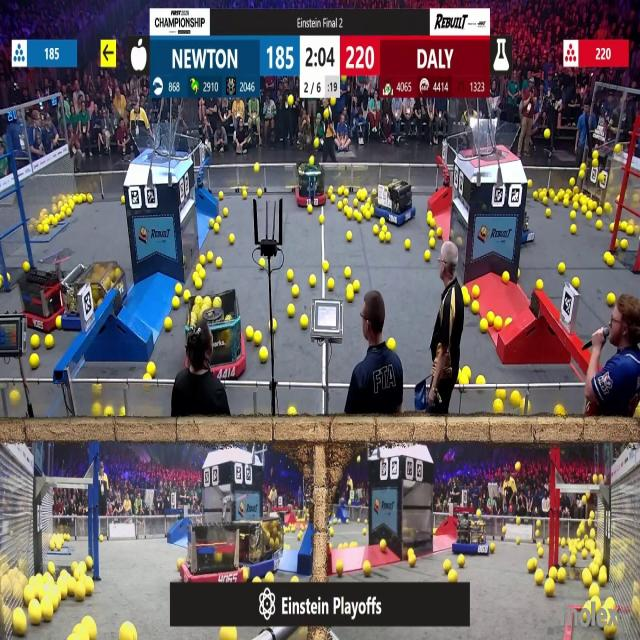ball_airborne: (616, 144, 623, 153), (314, 138, 320, 148), (543, 130, 549, 140), (516, 462, 522, 471), (324, 110, 329, 120), (288, 96, 293, 106), (310, 158, 316, 166), (578, 170, 584, 178), (593, 160, 598, 169), (330, 98, 335, 107), (593, 150, 598, 158), (582, 495, 586, 504), (580, 161, 584, 169), (357, 454, 361, 461)
ball_ground: (14, 616, 26, 637), (122, 624, 137, 640), (30, 608, 42, 627), (42, 607, 53, 624), (544, 581, 554, 598), (604, 625, 615, 640), (75, 586, 85, 602), (30, 353, 40, 368), (146, 361, 156, 376), (598, 569, 607, 585), (534, 570, 544, 584), (409, 551, 417, 567), (584, 570, 592, 586), (494, 399, 503, 413), (512, 392, 521, 406), (591, 585, 600, 598), (259, 348, 267, 362), (528, 558, 536, 572), (87, 582, 95, 596), (449, 569, 458, 581), (363, 561, 370, 576), (606, 292, 614, 305), (558, 569, 566, 582), (32, 337, 40, 350), (253, 333, 261, 346), (494, 317, 502, 330), (604, 599, 613, 610), (302, 315, 309, 329), (337, 560, 344, 574), (91, 626, 98, 640), (458, 555, 466, 567), (481, 320, 489, 332), (347, 289, 355, 301), (388, 339, 396, 351), (94, 405, 102, 417), (242, 568, 250, 580), (45, 337, 52, 350), (287, 305, 294, 318), (246, 326, 253, 339), (606, 253, 613, 266), (287, 408, 296, 418), (459, 375, 468, 385), (267, 571, 275, 582), (10, 391, 18, 402), (556, 407, 564, 418), (550, 568, 558, 579), (471, 302, 478, 314), (165, 318, 172, 330), (173, 296, 180, 308), (88, 557, 95, 569), (427, 214, 434, 226), (47, 562, 54, 574), (105, 408, 113, 418), (496, 389, 504, 399), (462, 366, 470, 376), (194, 279, 201, 290), (502, 273, 509, 284), (345, 268, 352, 279), (353, 281, 360, 292), (572, 278, 579, 289), (359, 189, 366, 200), (327, 279, 333, 291), (57, 317, 63, 329), (445, 560, 451, 572), (308, 276, 314, 288), (292, 285, 298, 297), (478, 376, 486, 385), (183, 290, 189, 302), (596, 599, 602, 611), (175, 284, 182, 294), (621, 240, 628, 250), (403, 240, 410, 250), (207, 252, 214, 262), (227, 234, 234, 244), (346, 208, 353, 218), (571, 200, 578, 210), (559, 264, 565, 275), (287, 271, 293, 282), (472, 286, 478, 297), (381, 539, 387, 550), (216, 257, 222, 268), (424, 250, 430, 261), (213, 223, 220, 232), (587, 211, 594, 220), (621, 221, 628, 230), (194, 295, 201, 304), (588, 202, 595, 211), (536, 280, 542, 290), (570, 223, 576, 233), (322, 262, 328, 272), (24, 264, 30, 274), (272, 320, 278, 330), (463, 294, 469, 304), (570, 556, 576, 566), (628, 224, 634, 234), (201, 254, 207, 264), (430, 238, 436, 248), (562, 555, 568, 565), (43, 223, 49, 233), (596, 207, 603, 215), (428, 231, 435, 239), (636, 406, 640, 420), (253, 165, 260, 173), (347, 233, 353, 242), (596, 220, 602, 229), (222, 208, 228, 217), (488, 313, 494, 322), (504, 318, 510, 327), (356, 213, 362, 222), (88, 193, 94, 202), (259, 257, 264, 267), (545, 208, 550, 218), (201, 270, 206, 280), (386, 233, 391, 243), (436, 227, 441, 237), (119, 408, 124, 418), (308, 206, 314, 214), (570, 212, 576, 220), (338, 202, 344, 210), (380, 234, 386, 242), (292, 574, 298, 582), (195, 265, 201, 273), (532, 190, 538, 198), (382, 224, 388, 232), (500, 527, 506, 535), (569, 178, 575, 186), (490, 542, 495, 551), (319, 215, 324, 224), (372, 224, 377, 233), (538, 549, 543, 558), (368, 208, 373, 217), (542, 197, 547, 206), (582, 615, 587, 624), (593, 473, 598, 482), (561, 537, 566, 546), (218, 191, 224, 198), (380, 218, 386, 225), (253, 576, 260, 582), (6, 274, 12, 281), (609, 223, 614, 231), (564, 199, 569, 207), (243, 190, 248, 198), (330, 194, 335, 202), (191, 272, 196, 280), (554, 198, 559, 206), (67, 208, 72, 216), (517, 537, 522, 544), (216, 216, 221, 223), (362, 528, 367, 535), (340, 542, 345, 549), (339, 188, 344, 195), (210, 218, 214, 226), (351, 541, 356, 547), (100, 535, 105, 541), (517, 519, 522, 525), (257, 189, 261, 196), (354, 201, 358, 208), (535, 530, 539, 537), (329, 529, 333, 536), (528, 180, 532, 187), (432, 528, 436, 535), (536, 521, 540, 528), (0, 275, 4, 282), (120, 197, 123, 205), (344, 200, 348, 206), (346, 520, 349, 525), (358, 518, 360, 524)
goal: (464, 122, 522, 160), (128, 131, 186, 160)
robot_blue: (64, 262, 126, 334), (230, 519, 288, 581), (372, 177, 414, 225), (452, 510, 490, 556)
robot_red: (196, 294, 246, 382), (181, 520, 238, 585), (19, 266, 64, 331), (295, 159, 329, 206)
